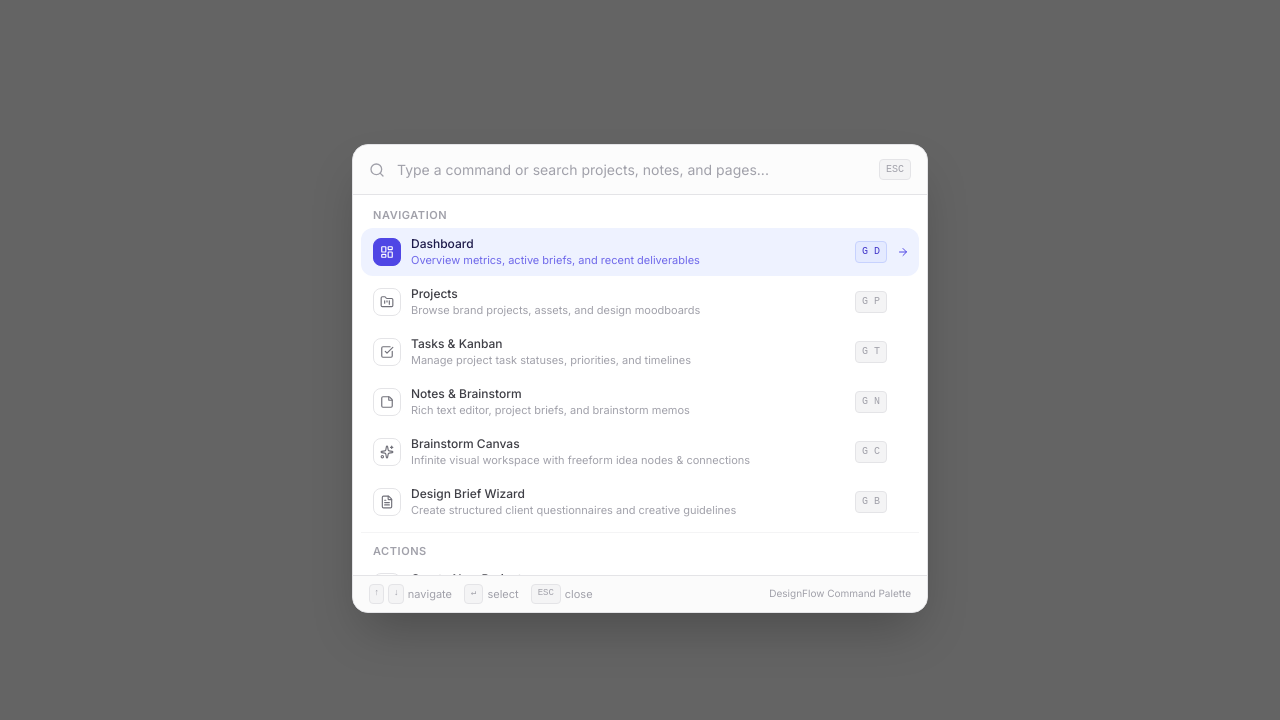
Test: CommandPaletteModal › filters commands dynamically based on search query
The width and height of the screenshot is (1280, 720).
Type "canvas" into the field with test id "command-palette-input".
click(632, 170); type("canvas")  # box [397,160,867,180]
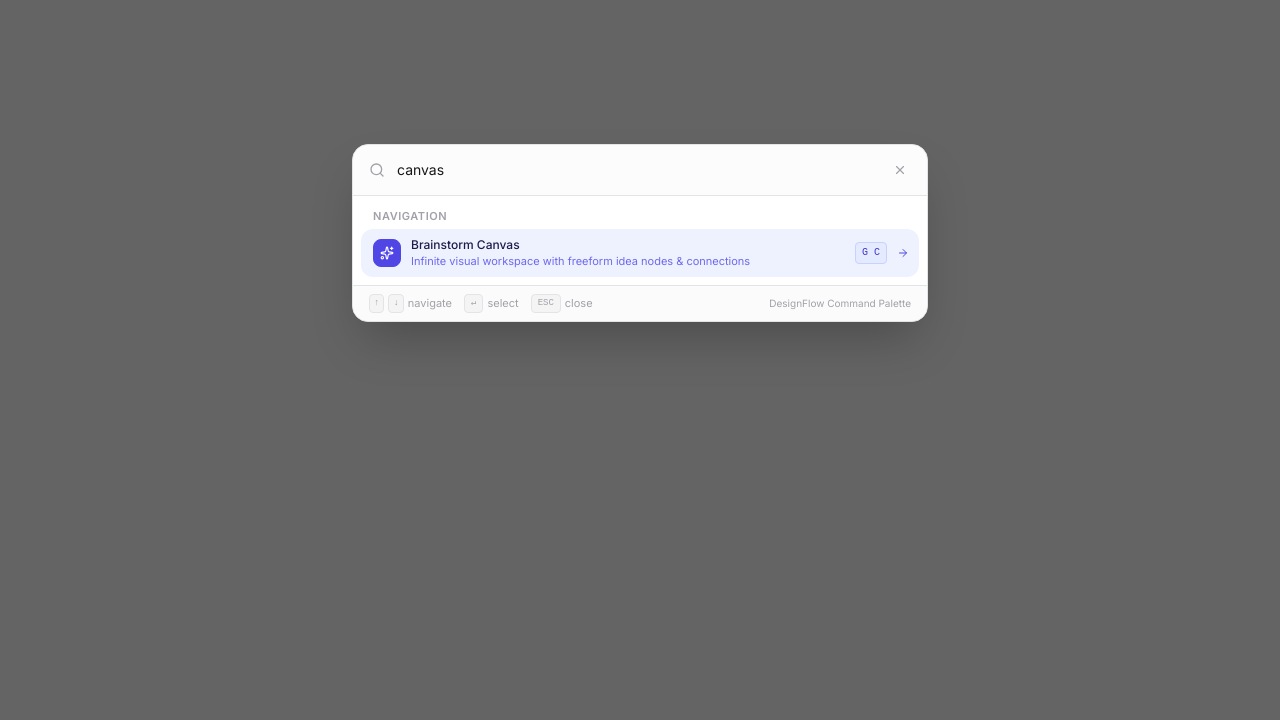
Expected: the text "Brainstorm Canvas" is shown, [411,236,520,252]
Expected: the text "Tasks & Kanban" is gone
